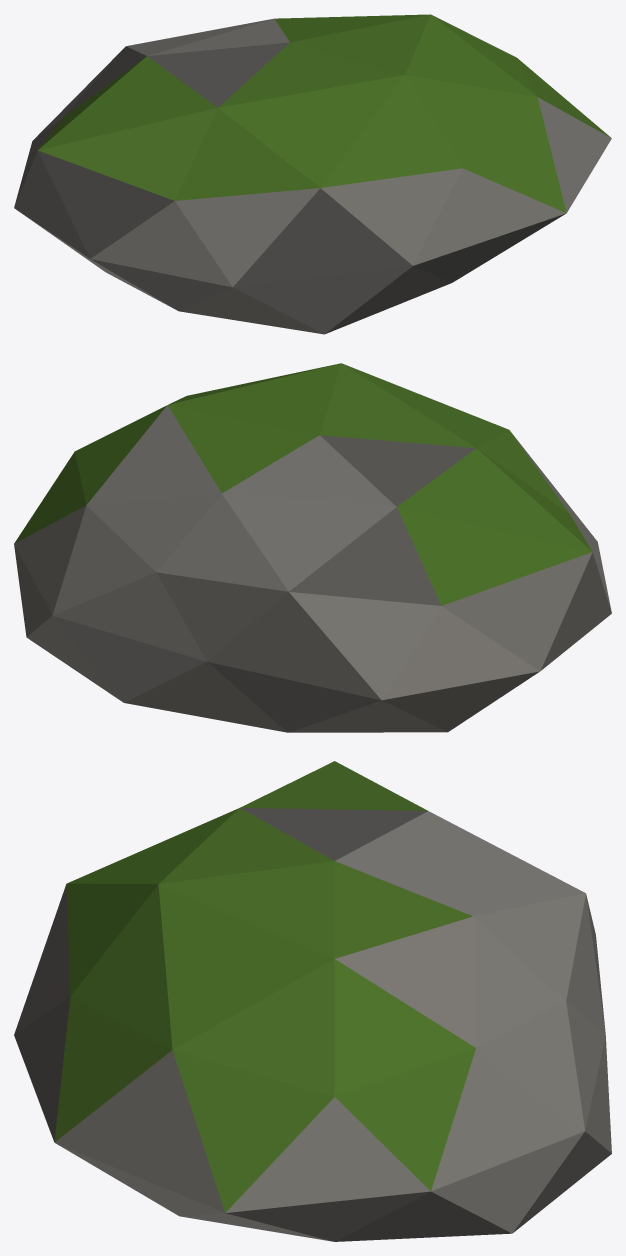
The model's file is rock_mossy.obj.
3 renders of one model, top to bottom at view 1: azimuth 30°, elevation 25°; view 2: azimuth 150°, elevation 25°; view 3: azimuth 270°, elevation 25°, orthographic. The views are drawn at different scales.
Visible parts, largest first — view 1: rock_mossy; view 2: rock_mossy; view 3: rock_mossy.
Boxes of the visible parts, x1,y1,x2,y2 form: rock_mossy: (14,14,611,334); rock_mossy: (14,363,611,732); rock_mossy: (14,761,611,1241).
Bounding box in the file's own units: 1.82 × 0.6539 × 1.36.
